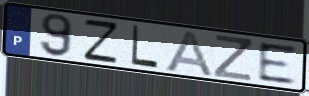9: (38, 12, 76, 59)
A: (161, 29, 215, 78)
E: (256, 41, 298, 86)
L: (129, 24, 160, 71)
Z: (212, 33, 253, 83), (82, 18, 120, 65)
